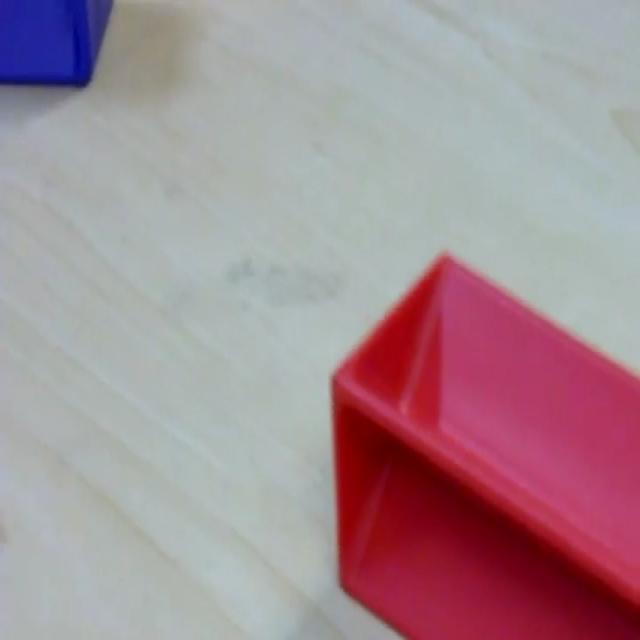red_block: (328, 248, 638, 637)
